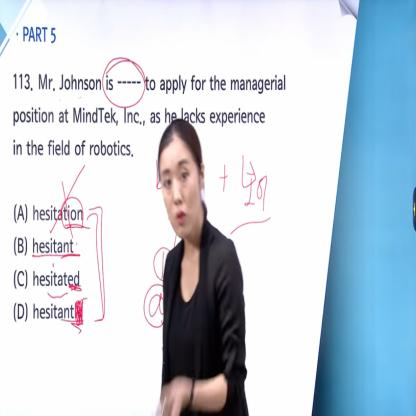streamer: (156, 119, 249, 416)
